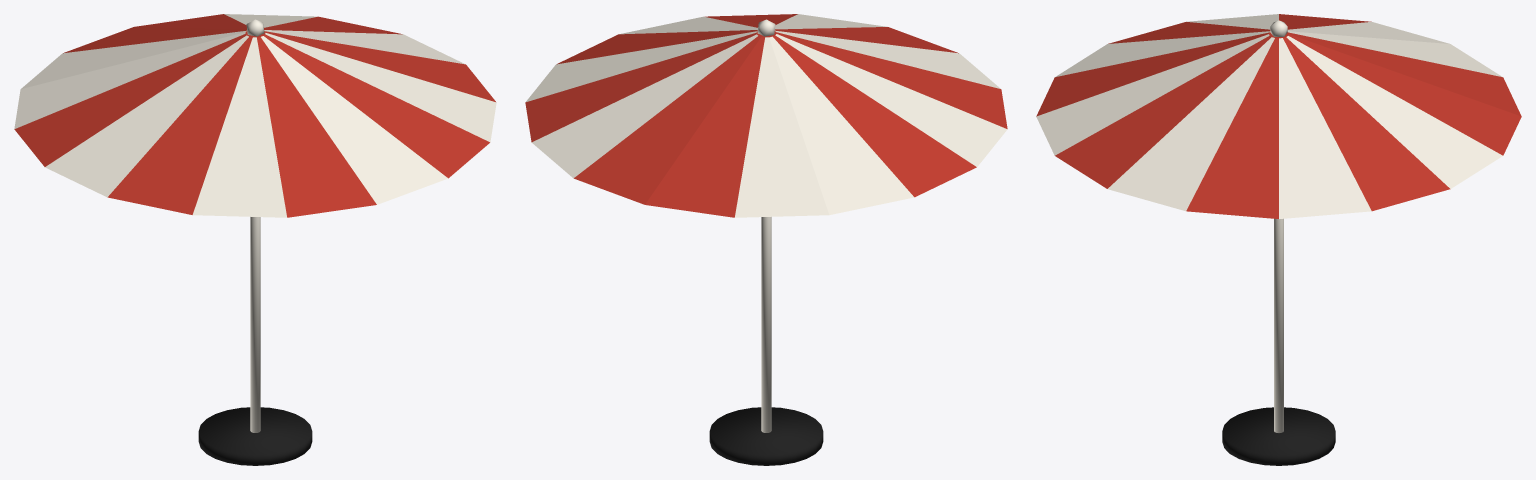
Rendered from ombrellone.glb.
3 renders of one model, left to right at view 1: azimuth 30°, elevation 25°; view 2: azimuth 150°, elevation 25°; view 3: azimuth 270°, elevation 25°, orthographic.
Parts seen in each view (by area): view 1: Cone, Cylinder.001, Cylinder; view 2: Cone, Cylinder.001, Cylinder; view 3: Cone, Cylinder.001, Cylinder.
Part boxes in pixels (<box>): Cone: <box>14,14,496,217</box>; Cylinder.001: <box>198,407,312,465</box>; Cylinder: <box>250,217,260,432</box>; Cone: <box>525,14,1007,217</box>; Cylinder.001: <box>709,407,823,465</box>; Cylinder: <box>761,217,771,432</box>; Cone: <box>1036,14,1521,218</box>; Cylinder.001: <box>1222,407,1335,465</box>; Cylinder: <box>1274,218,1283,432</box>.
Size of the model in its own units: 2.4 by 2.3 by 2.4.
